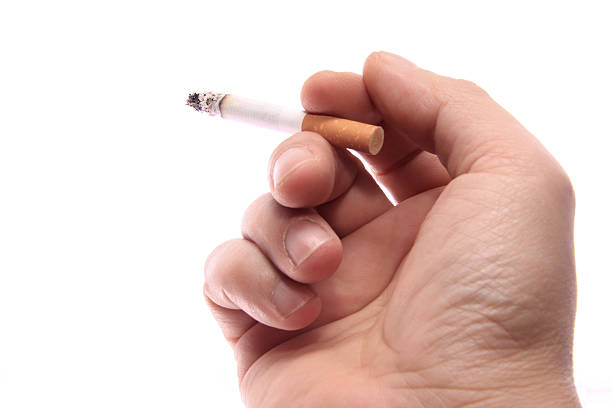cigarette: (187, 88, 386, 157)
